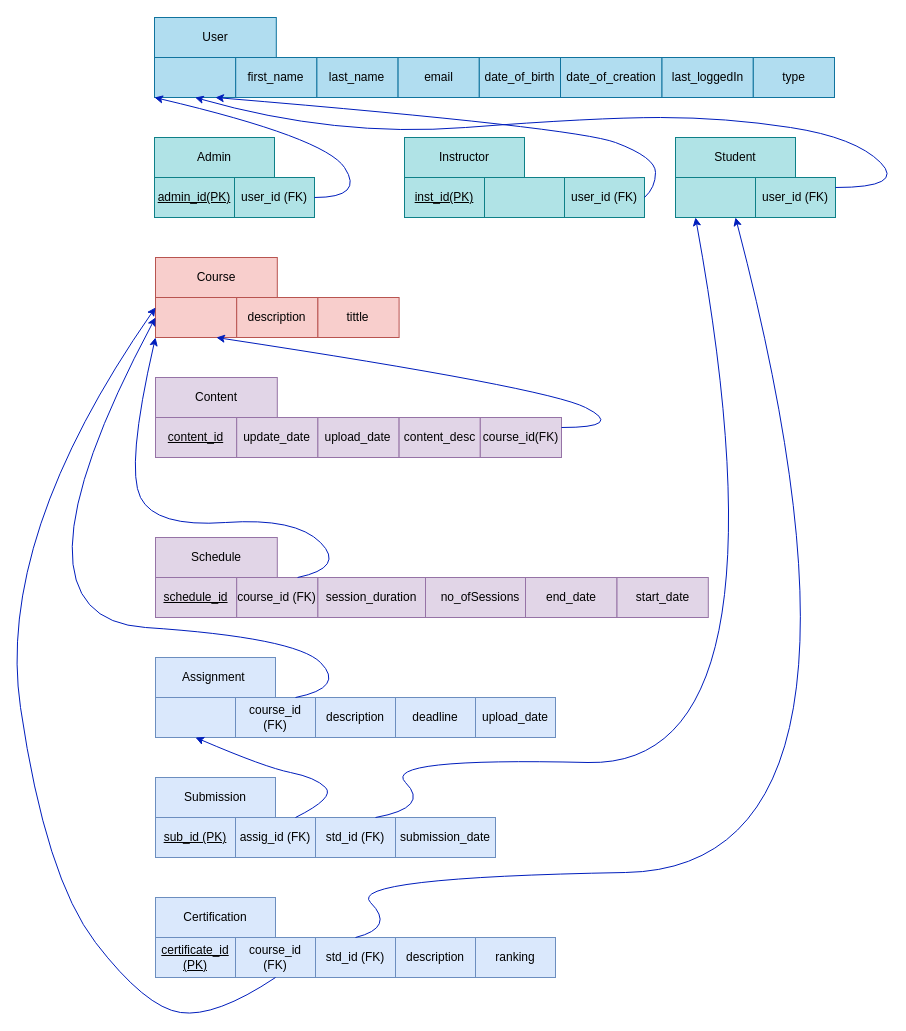
This 906x1031 diagram has some shape labels left out. Each missing label, with the box of its shape:
assig_id (PK): (154, 696, 236, 738)
course_id: (154, 296, 237, 338)
specialization: (484, 176, 564, 218)
std_id (PK): (674, 176, 756, 218)
user_id (PK): (154, 56, 236, 98)
